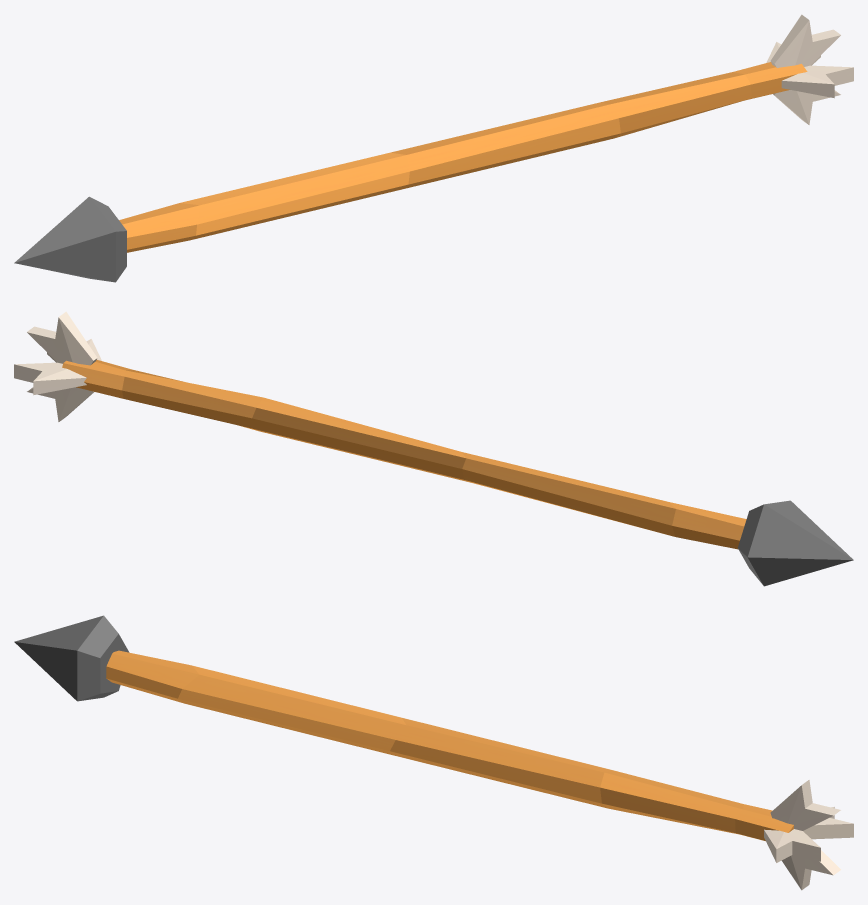
Rendered from arrow.glb.
The picture shows the model from 3 angles, top to bottom: view 1: azimuth 30°, elevation 25°; view 2: azimuth 150°, elevation 25°; view 3: azimuth 330°, elevation 25°; orthographic projection.
Parts seen in each view (by area): view 1: ArrowModel; view 2: ArrowModel; view 3: ArrowModel.
Part boxes in pixels (x1,y1,x2,y2): ArrowModel: (14, 14, 853, 282); ArrowModel: (14, 311, 853, 586); ArrowModel: (14, 615, 853, 890).
Bounding box in the file's own units: 0.3529 × 0.0432 × 0.0432.
1 material, 1 textured.
